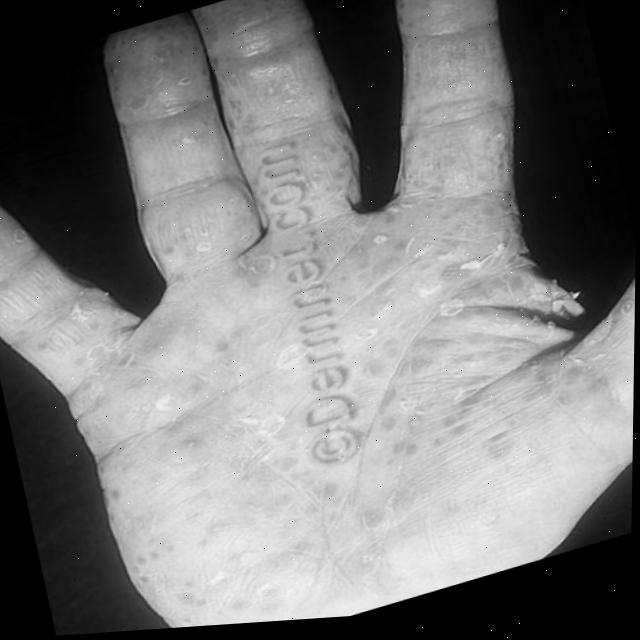Eczema: (13, 0, 640, 639)
